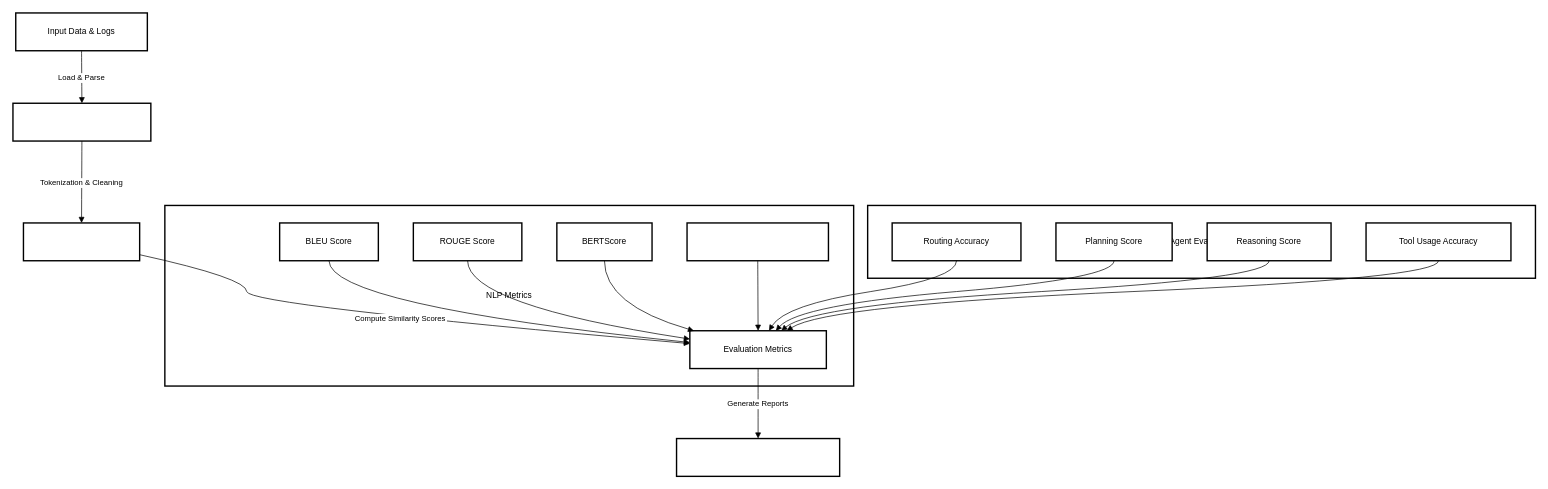
This 1548x489 diagram has some shape labels left out. The centre of each missing label's shape, as x and y in pixels:
Data Preprocessing: (x=81, y=121)
Final Evaluation Output: (x=758, y=457)
NLP Processing: (x=81, y=241)
Semantic Similarity: (x=757, y=241)
